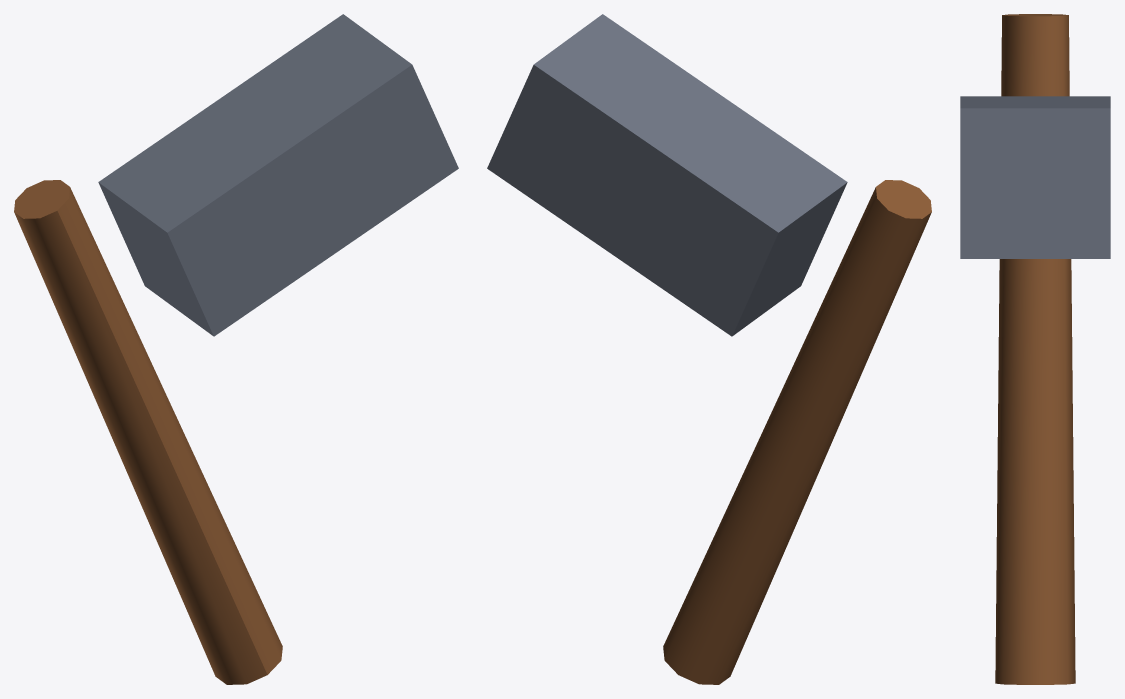
Rendered from hammer.glb.
3 renders of one model, left to right at view 1: azimuth 30°, elevation 25°; view 2: azimuth 150°, elevation 25°; view 3: azimuth 270°, elevation 25°, orthographic. The views are drawn at different scales.
Visible parts, largest first — view 1: hammer; view 2: hammer; view 3: hammer.
Boxes of the visible parts, bbox=[...] form: hammer: bbox=[14, 14, 458, 684]; hammer: bbox=[487, 14, 931, 684]; hammer: bbox=[960, 14, 1110, 684].
Size of the model in its own units: 0.305 by 0.4335 by 0.09.
